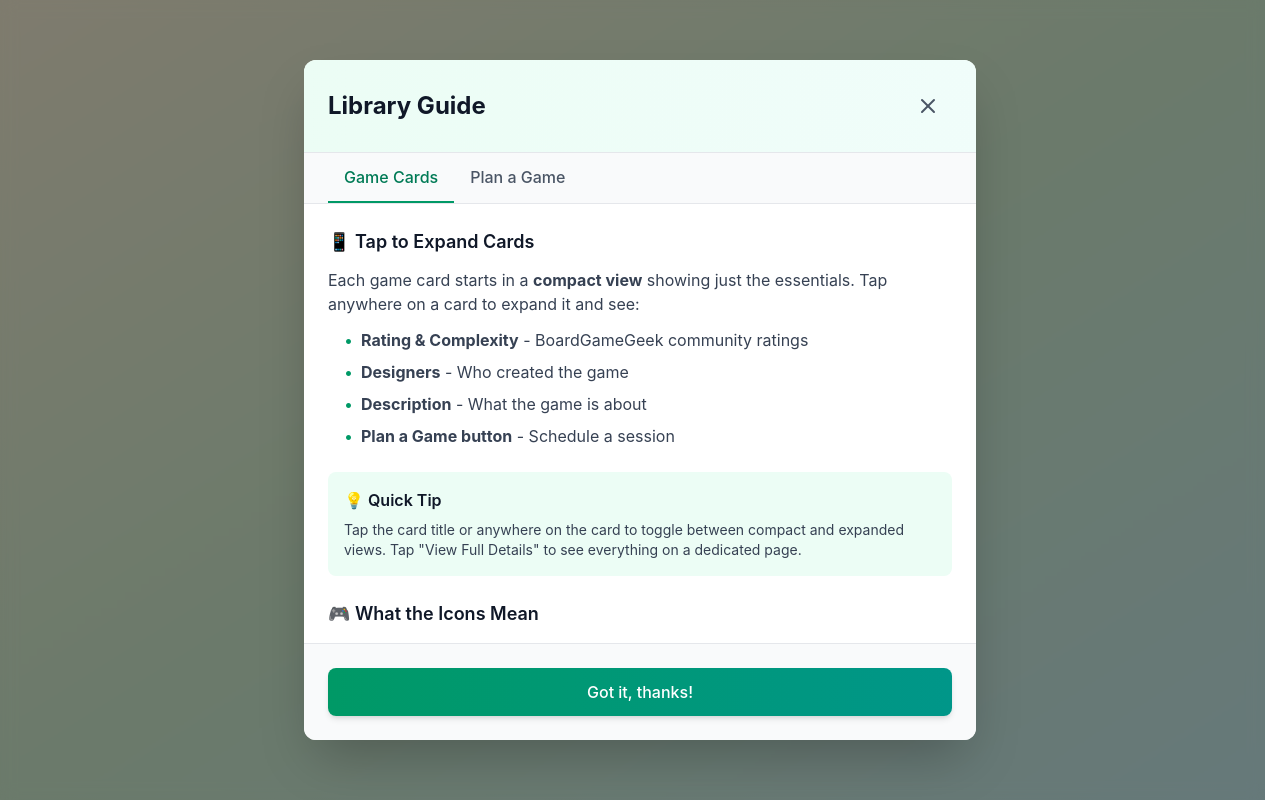
Test: HelpModal Component › AfterGame Tab Content › displays benefits of scheduling
The width and height of the screenshot is (1280, 800).
Step 1. Click the button "Plan a Game" → (518, 178), box top-left (454, 153), bottom-right (581, 203)
(page scrolled)
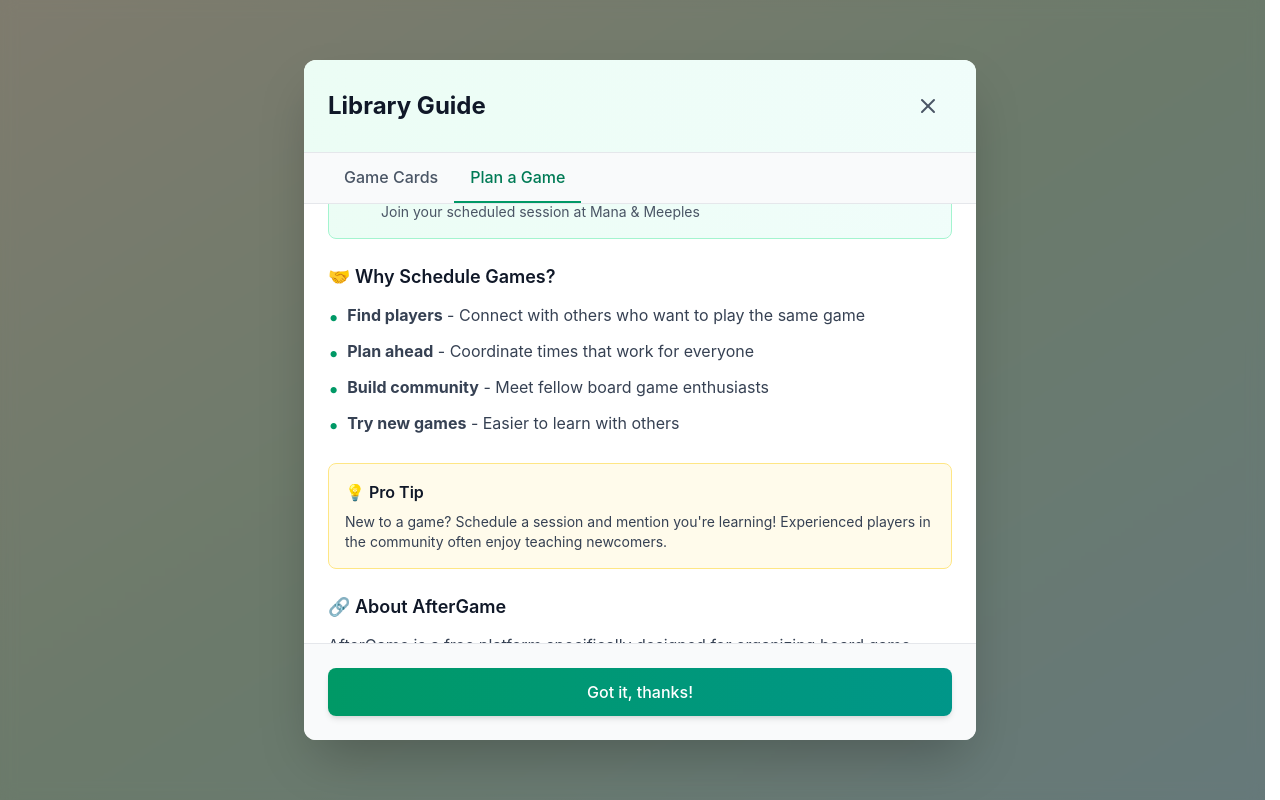
Expected: the heading "🤝 Why Schedule Games?" is shown, top-left (328, 266), bottom-right (556, 287)
Expected: the text "Find players" is shown, top-left (347, 305), bottom-right (443, 325)
Expected: the text "Plan ahead" is shown, top-left (347, 341), bottom-right (433, 361)
